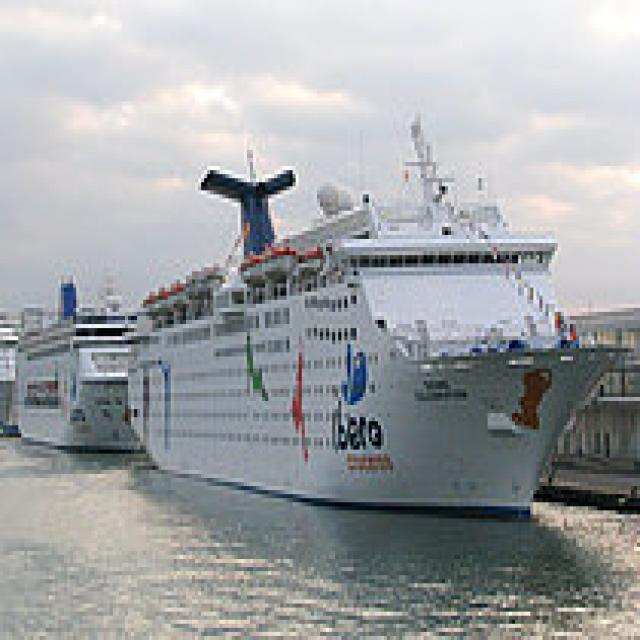Ship: (108, 155, 635, 536), (1, 252, 169, 459)
